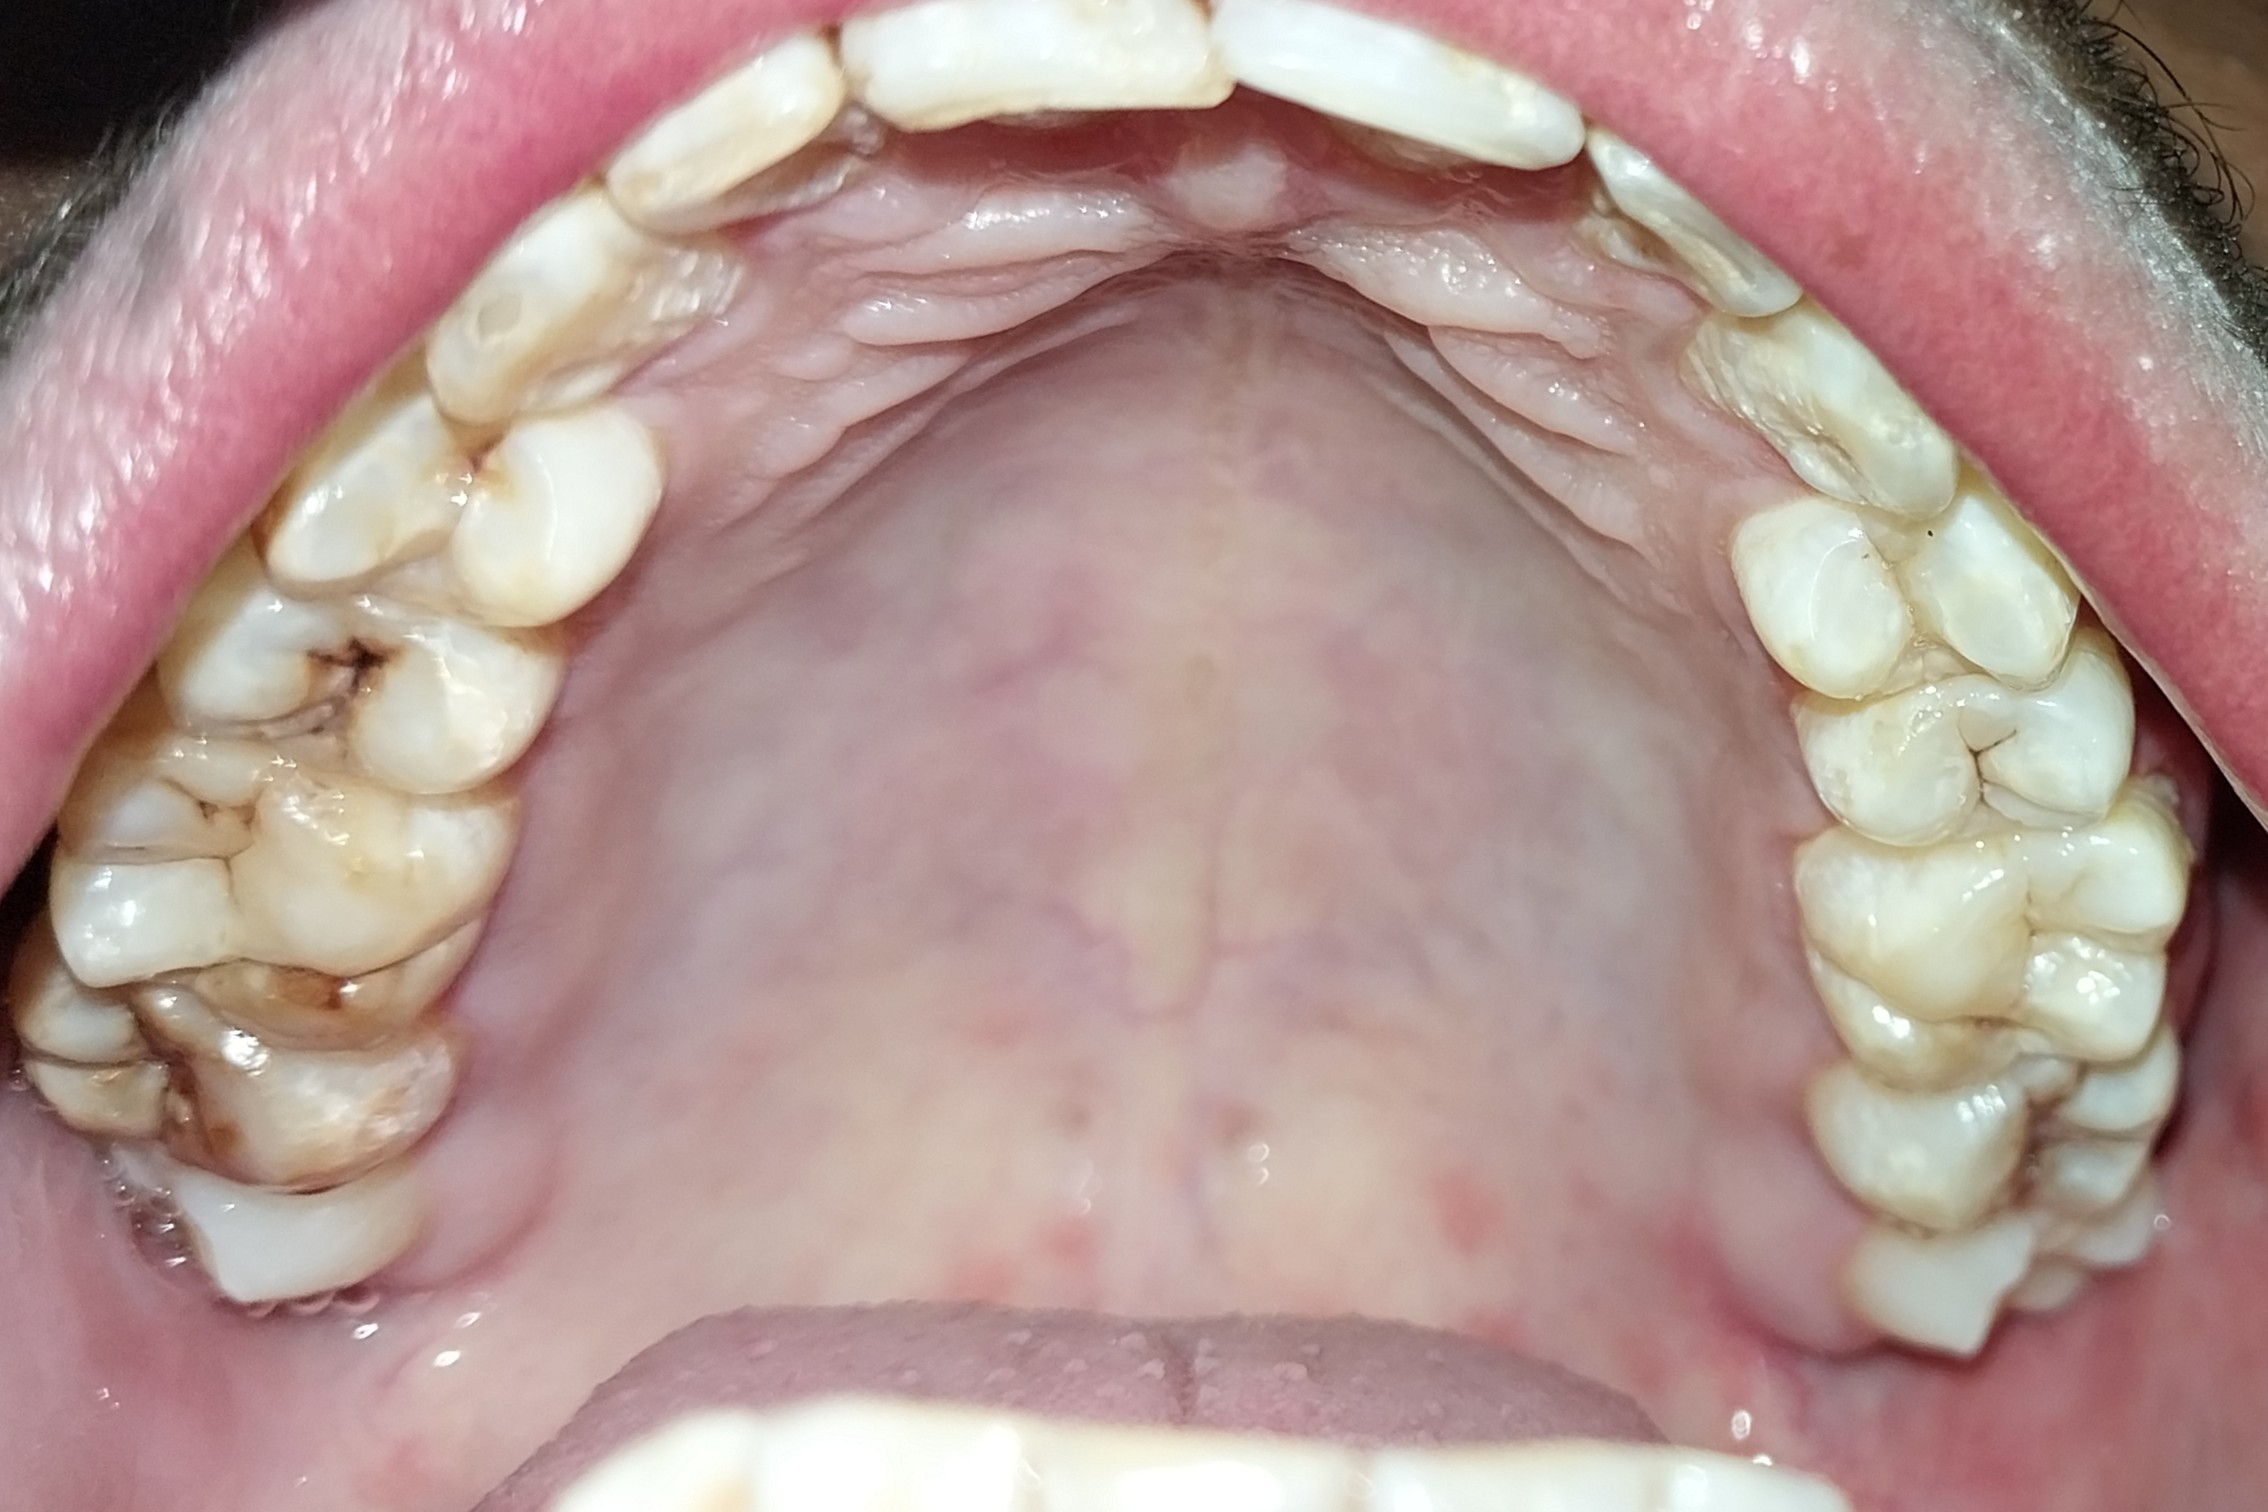D: (1, 904, 459, 1191), (166, 550, 562, 793), (1803, 1031, 2184, 1222)
